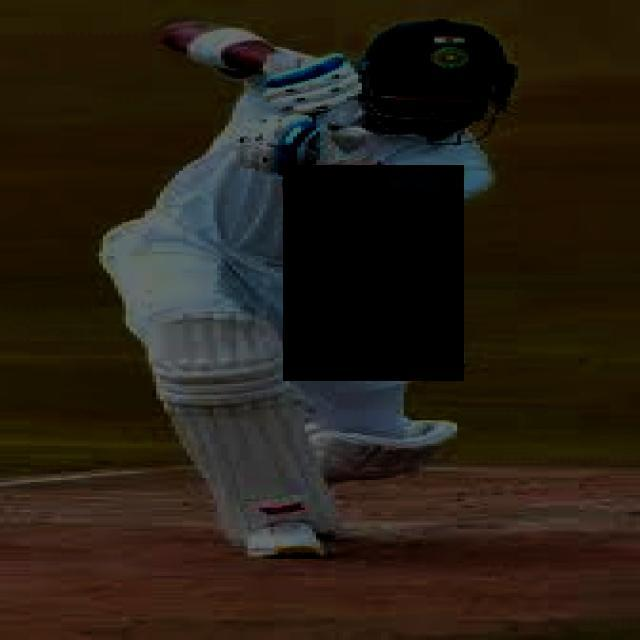bat: (283, 169, 465, 374)
